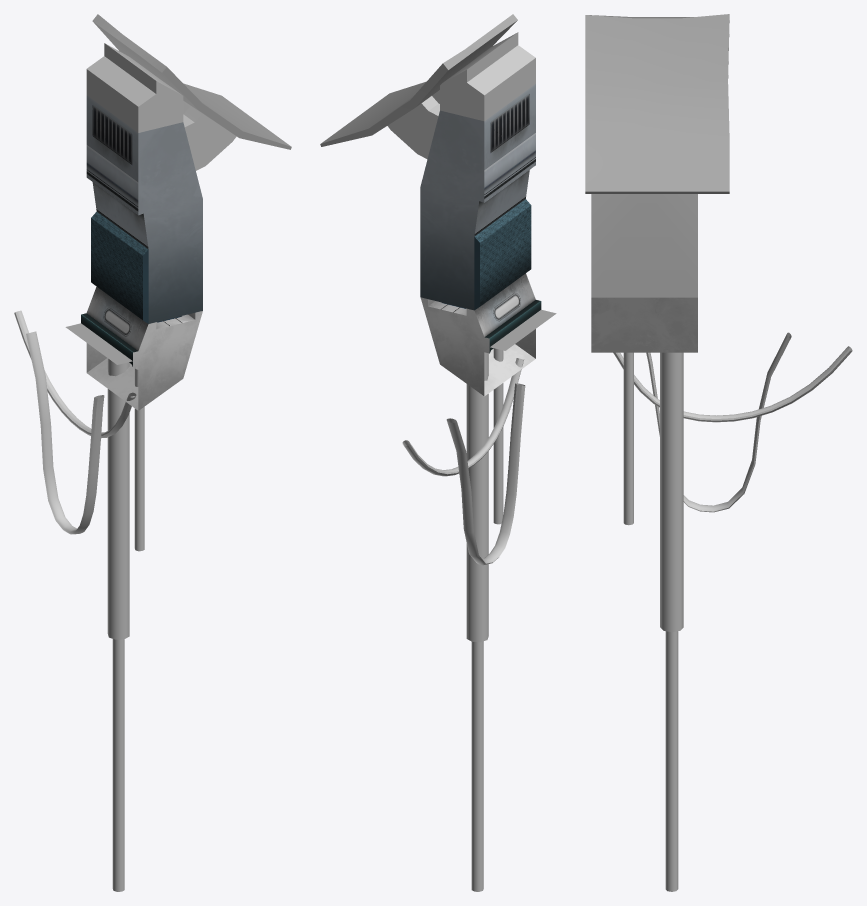
Rendered from SpacialWall_06_ST.fbx.
The picture shows the model from 3 angles, left to right: view 1: azimuth 30°, elevation 25°; view 2: azimuth 150°, elevation 25°; view 3: azimuth 270°, elevation 25°; orthographic projection. The views are drawn at different scales.
Visible parts, largest first — view 1: SpacialWall_06; view 2: SpacialWall_06; view 3: SpacialWall_06.
Boxes of the visible parts, bbox=[...] form: SpacialWall_06: bbox=[14, 14, 291, 891]; SpacialWall_06: bbox=[320, 14, 556, 891]; SpacialWall_06: bbox=[585, 14, 852, 891].
Bounding box in the file's own units: 1.91 × 9.07 × 2.5.
